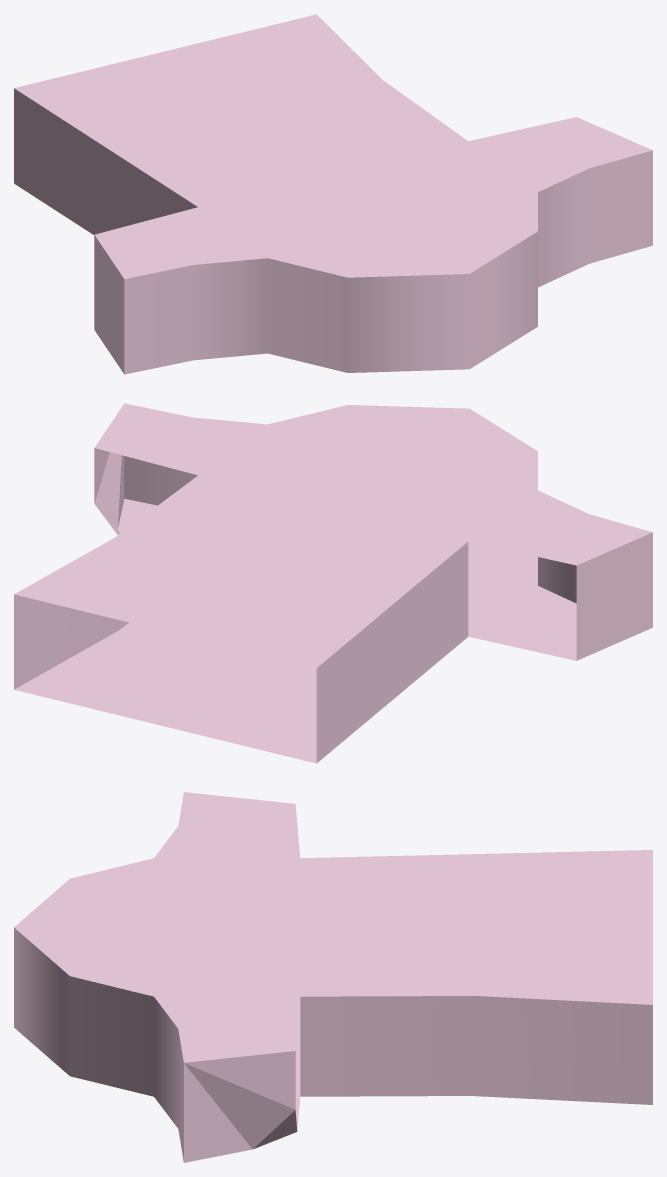
3 renders of one model, top to bottom at view 1: azimuth 30°, elevation 25°; view 2: azimuth 150°, elevation 25°; view 3: azimuth 270°, elevation 25°, orthographic. The views are drawn at different scales.
Parts seen in each view (by area): view 1: Object47; view 2: Object47; view 3: Object47.
Boxes of the visible parts, box(x1,y1,x2,y2) form: Object47: box(14, 14, 652, 374); Object47: box(14, 403, 652, 763); Object47: box(14, 792, 652, 1162).
Size of the model in its own units: 17659 by 3044 by 17608.
